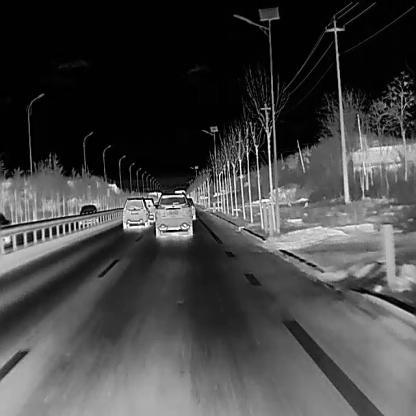car: (152, 191, 194, 238), (120, 194, 149, 228), (78, 203, 99, 226), (0, 211, 10, 249), (143, 196, 155, 223), (186, 196, 195, 219)
